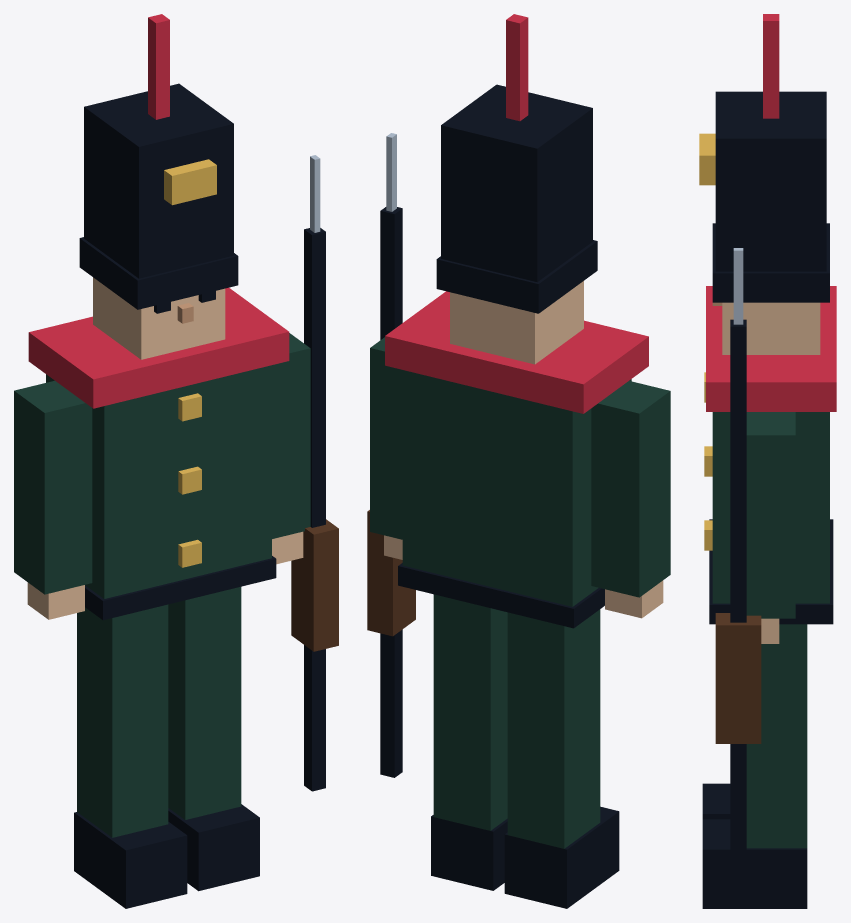
Rendered from npc_sentry.glb.
The picture shows the model from 3 angles, left to right: view 1: azimuth 30°, elevation 25°; view 2: azimuth 150°, elevation 25°; view 3: azimuth 270°, elevation 25°; orthographic projection.
Visible parts, largest first — view 1: npc_sentry; view 2: npc_sentry; view 3: npc_sentry.
Part boxes in pixels (x1,y1,x2,y2): npc_sentry: (14,14,338,908); npc_sentry: (367,14,670,908); npc_sentry: (699,14,836,908).
Size of the model in its own units: 1.02 by 2.9 by 0.4199.
1 material, 1 textured.
